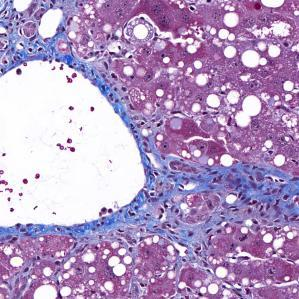fibrosis: (159, 169, 285, 244), (0, 8, 64, 58)
